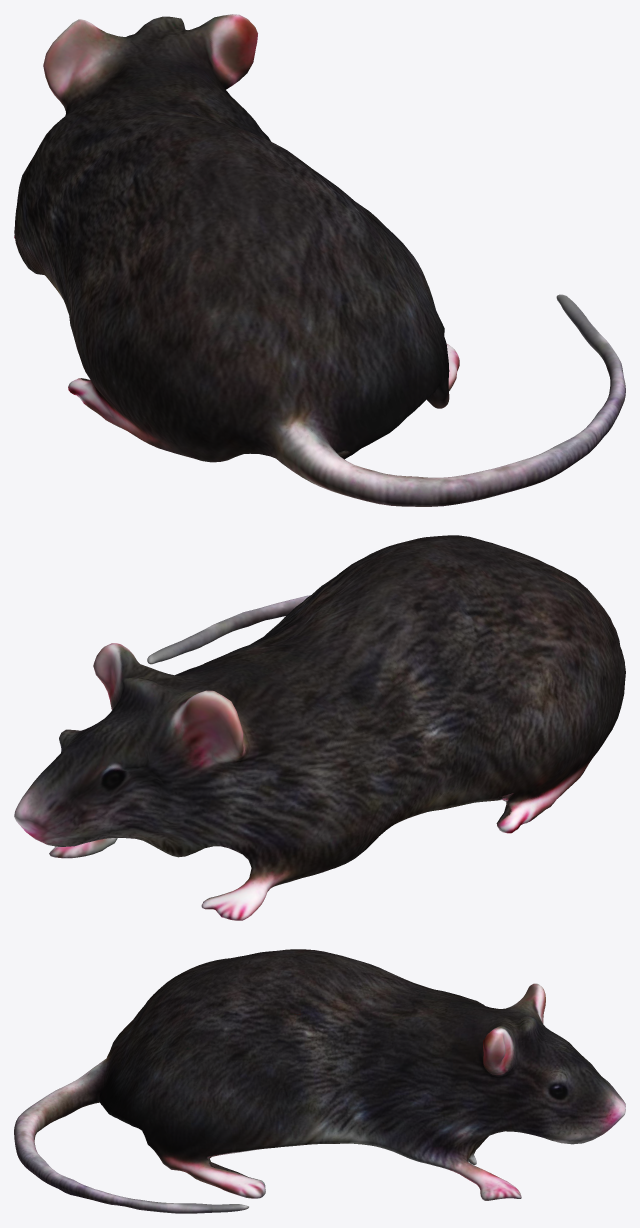
The model's file is rata.dae.
3 renders of one model, top to bottom at view 1: azimuth 30°, elevation 25°; view 2: azimuth 150°, elevation 25°; view 3: azimuth 270°, elevation 25°, orthographic. The views are drawn at different scales.
Visible parts, largest first — view 1: mesh; view 2: mesh; view 3: mesh.
Part boxes in pixels (bbox=[...]): mesh: bbox=[14, 14, 625, 506]; mesh: bbox=[14, 535, 625, 920]; mesh: bbox=[14, 949, 625, 1213].
Bounding box in the file's own units: 0.6034 × 0.9972 × 0.3128.
1 material, 1 textured.
